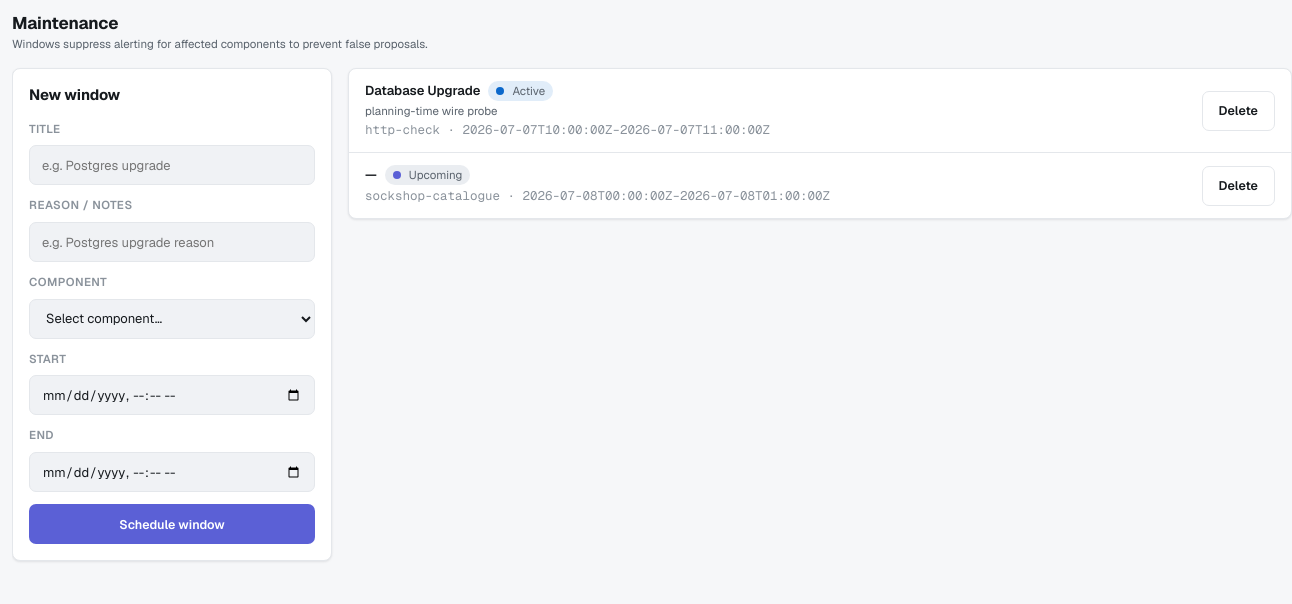
Test: MaintenancePage › renders an empty-component_id 422 INLINE next to the Component field (AC2)
The image size is (1292, 604).
Expected: the text "http-check" is shown, [365,121,440,138]
Select "Sock Shop — frontend" in the dropdown labelled "Component": [172, 319] box [29,299,315,339]
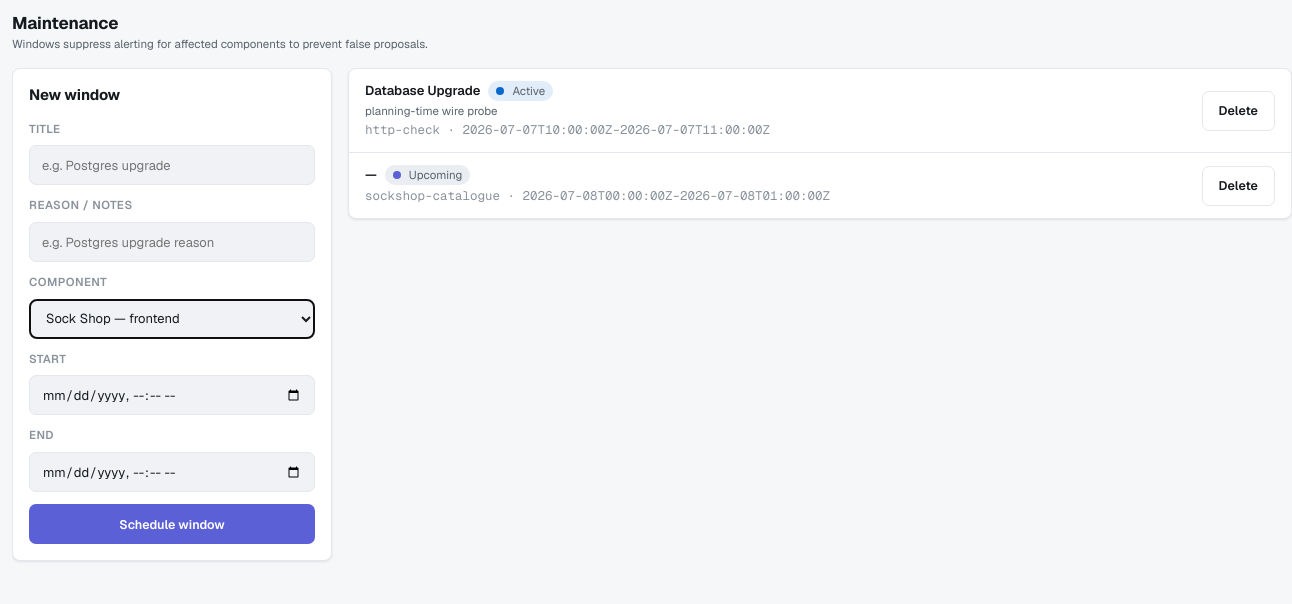
In the field labelled "Start": [172, 395] box [29,375,315,415], type "2026-07-09T09:00"
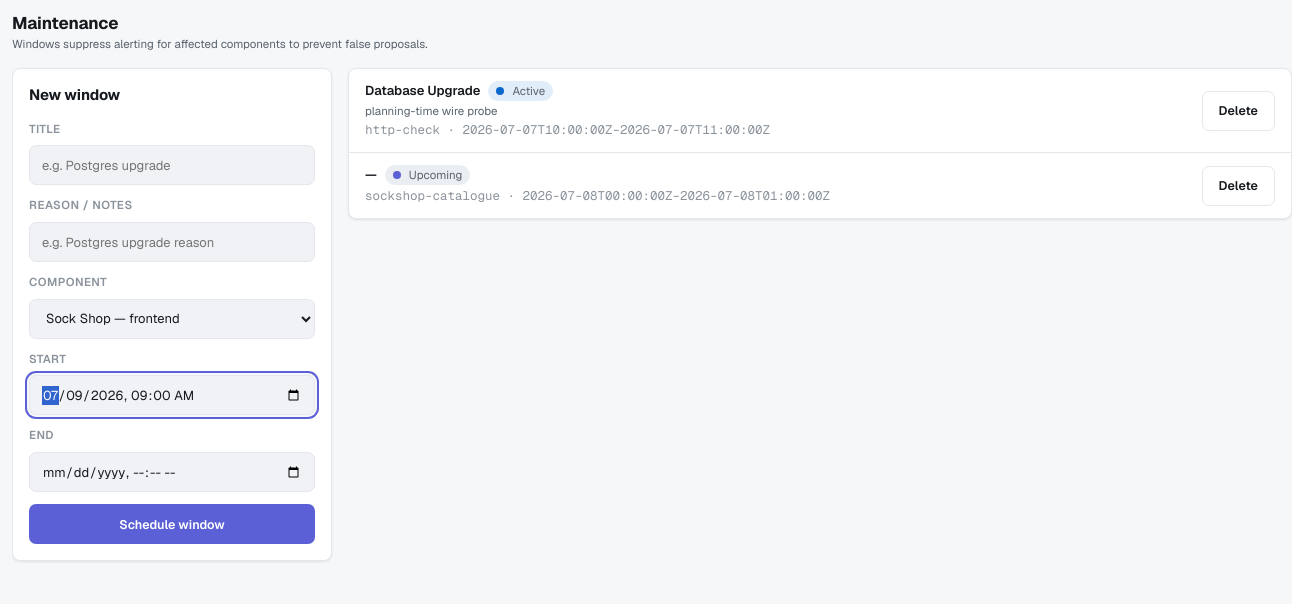
In the field labelled "End": [172, 472] box [29,452,315,492], type "2026-07-09T10:00"
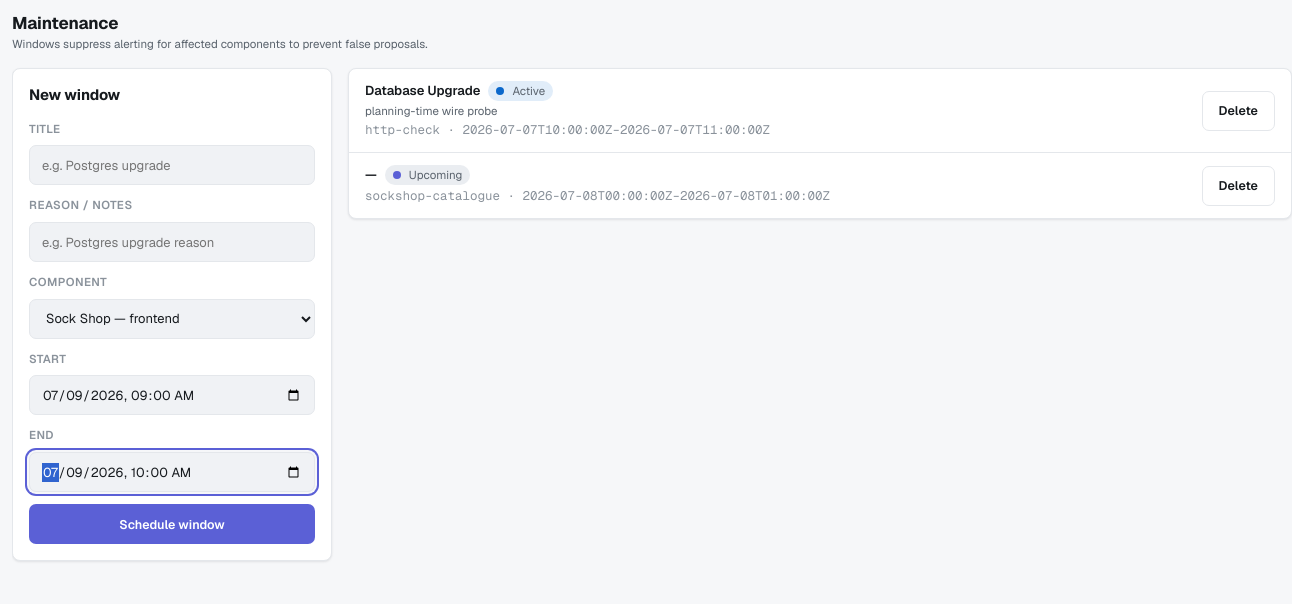
Click the button "Schedule window": [172, 524] box [29,504,315,544]
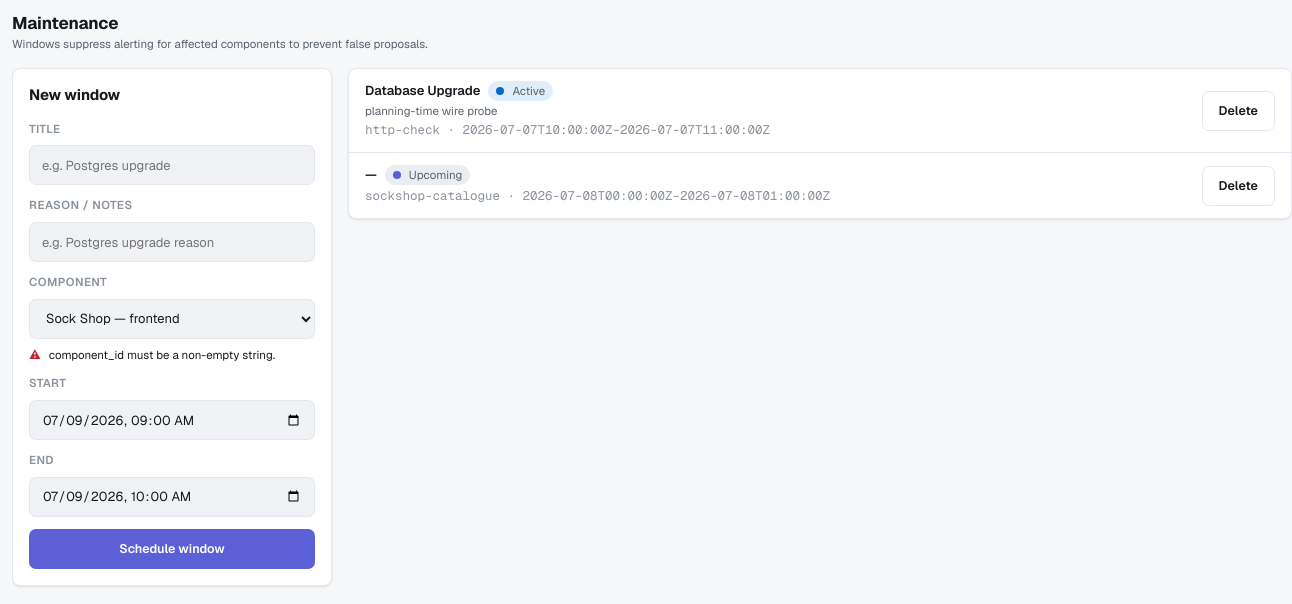
Expected: the element labelled "Component" is shown, [29,274,315,363]
Result: the text "component_id must be a non-empty string." is shown at [49,347,275,362]
